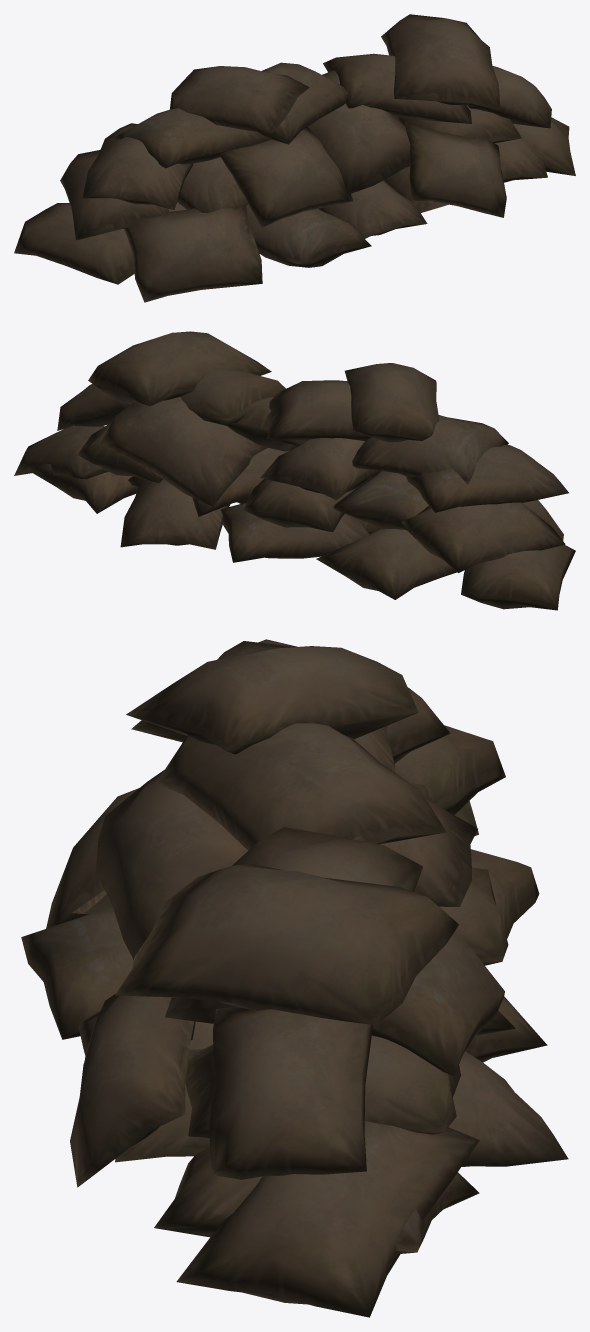
The model's file is mn_sandbag.FBX.
3 views of the same model, one above another, from view 1: azimuth 30°, elevation 25°; view 2: azimuth 150°, elevation 25°; view 3: azimuth 270°, elevation 25° (orthographic). The views are drawn at different scales.
Visible parts, largest first — view 1: mn_sandbag; view 2: mn_sandbag; view 3: mn_sandbag.
Part boxes in pixels (bbox=[...]): mn_sandbag: bbox=[14, 14, 575, 302]; mn_sandbag: bbox=[14, 331, 575, 610]; mn_sandbag: bbox=[21, 639, 568, 1317].
Bounding box in the file's own units: 3.18 × 0.9973 × 1.41.
